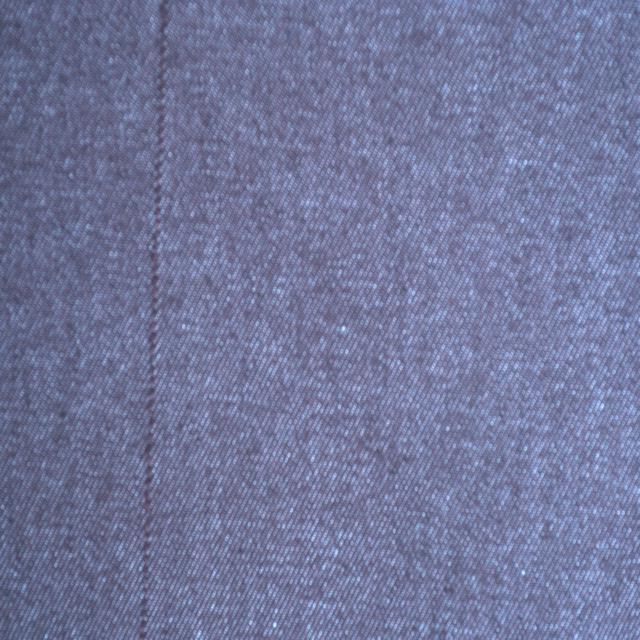Line: (136, 0, 167, 640)
